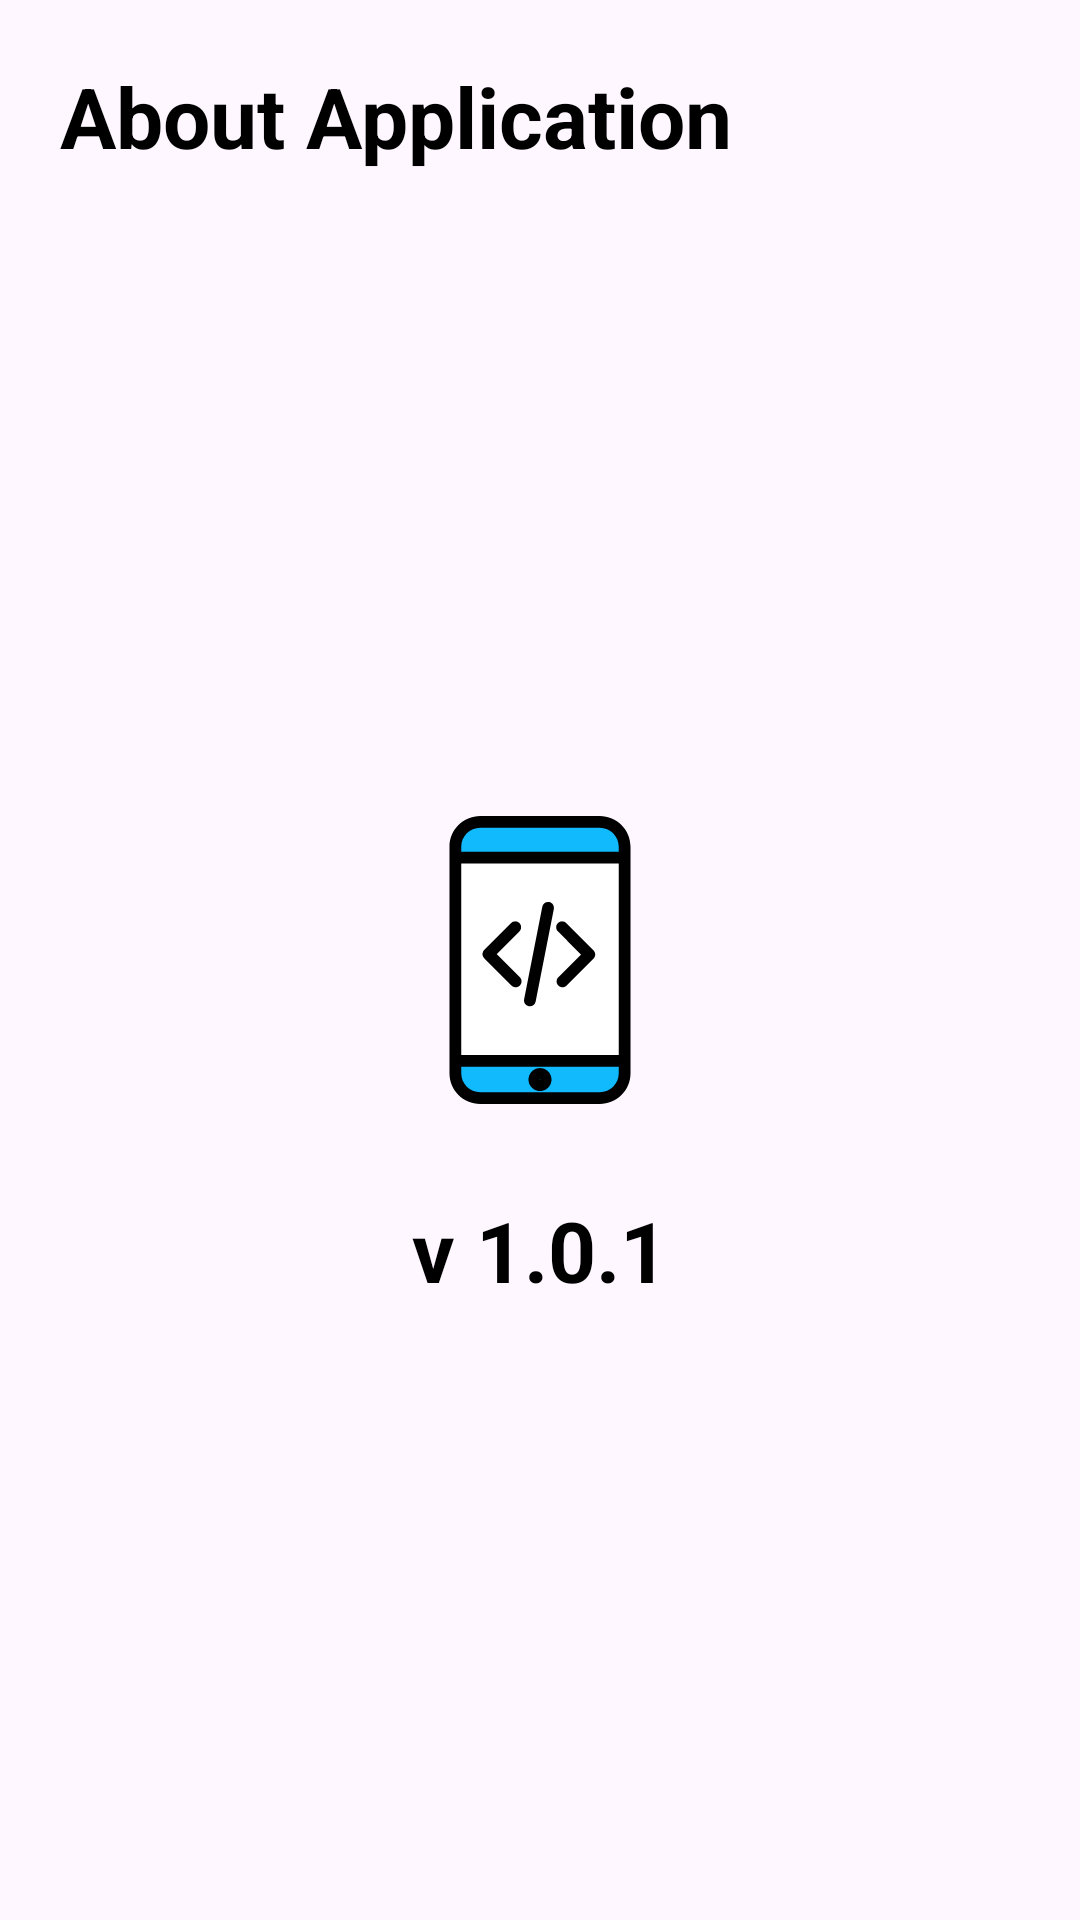

Screen size 1080 x 1920. Icon name, then its center in pixels as [x,y]:
about app: [540,960]
